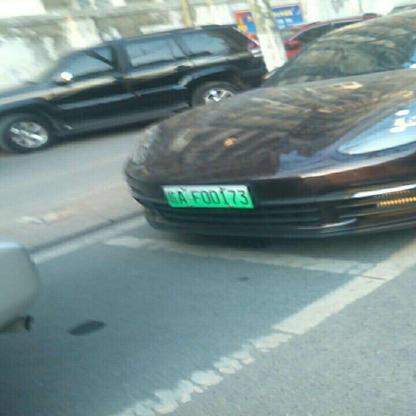lp: (160, 182, 254, 209)
